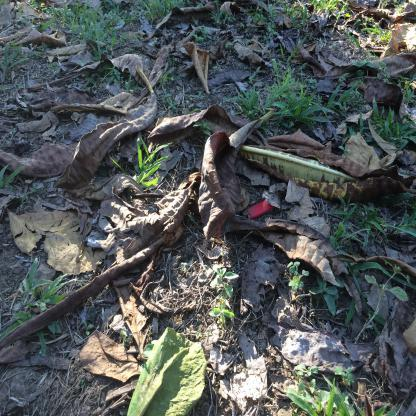diger: (242, 198, 276, 219)
